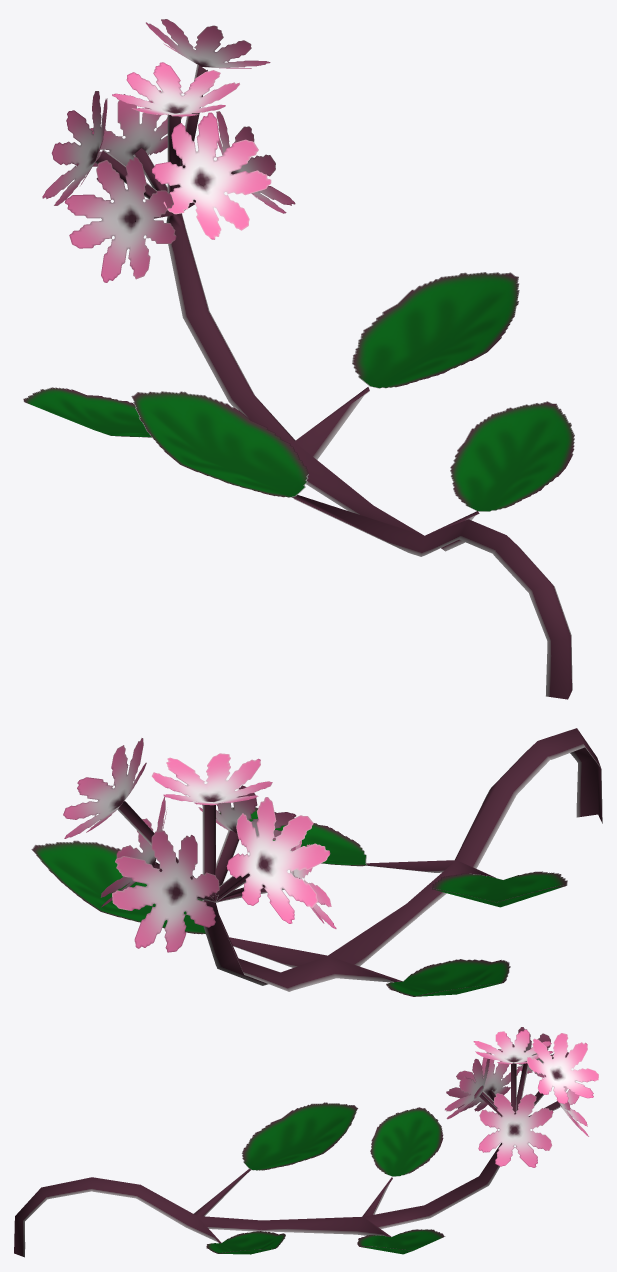
Rendered from beach_sand_verbena.fbx.
3 renders of one model, top to bottom at view 1: azimuth 30°, elevation 25°; view 2: azimuth 150°, elevation 25°; view 3: azimuth 270°, elevation 25°, orthographic. The views are drawn at different scales.
Visible parts, largest first — view 1: beach_sand_verbena; view 2: beach_sand_verbena; view 3: beach_sand_verbena.
Boxes of the visible parts, left/top/right/bottom form: beach_sand_verbena: left=23, top=19, right=574, bottom=699; beach_sand_verbena: left=31, top=728, right=602, bottom=996; beach_sand_verbena: left=14, top=1027, right=598, bottom=1257.
Bounding box in the file's own units: 81 × 57.13 × 128.
1 material, 1 textured.
